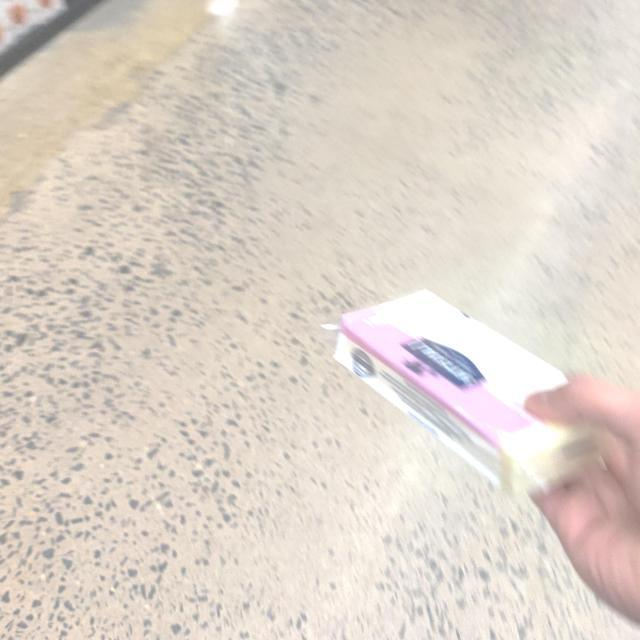cheese: (310, 274, 628, 508)
